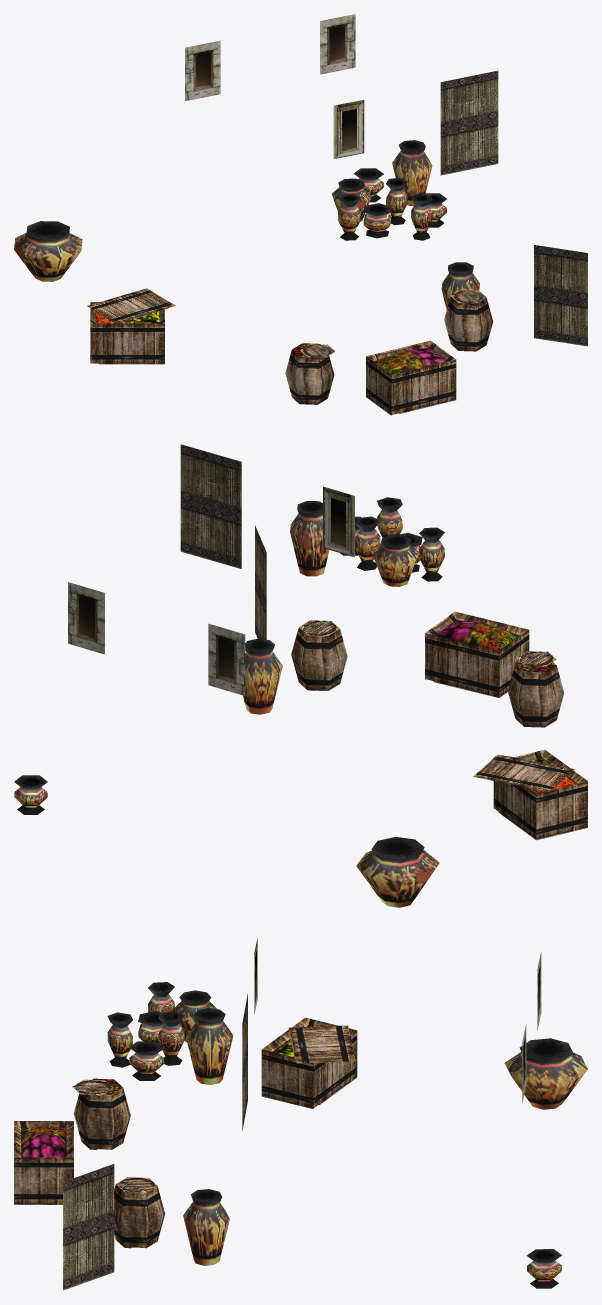
Rendered from hele_farmstead_props.dae.
3 renders of one model, top to bottom at view 1: azimuth 30°, elevation 25°; view 2: azimuth 150°, elevation 25°; view 3: azimuth 270°, elevation 25°, orthographic. The views are drawn at different scales.
Visible parts, largest first — view 1: Farmstead_Props; view 2: Farmstead_Props; view 3: Farmstead_Props.
Boxes of the visible parts, x1,y1,x2,y2 form: Farmstead_Props: [14, 14, 587, 415]; Farmstead_Props: [14, 444, 587, 907]; Farmstead_Props: [14, 938, 587, 1290].
Size of the model in its own units: 16.01 by 8.89 by 17.38.
